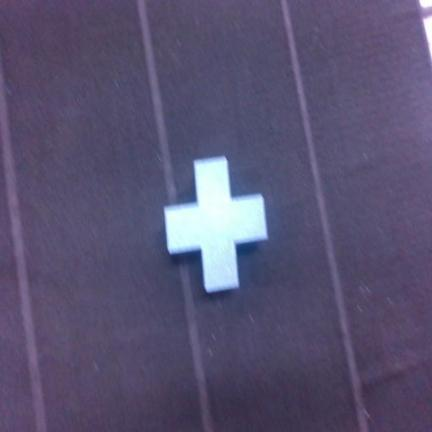cross: (165, 157, 267, 292)
